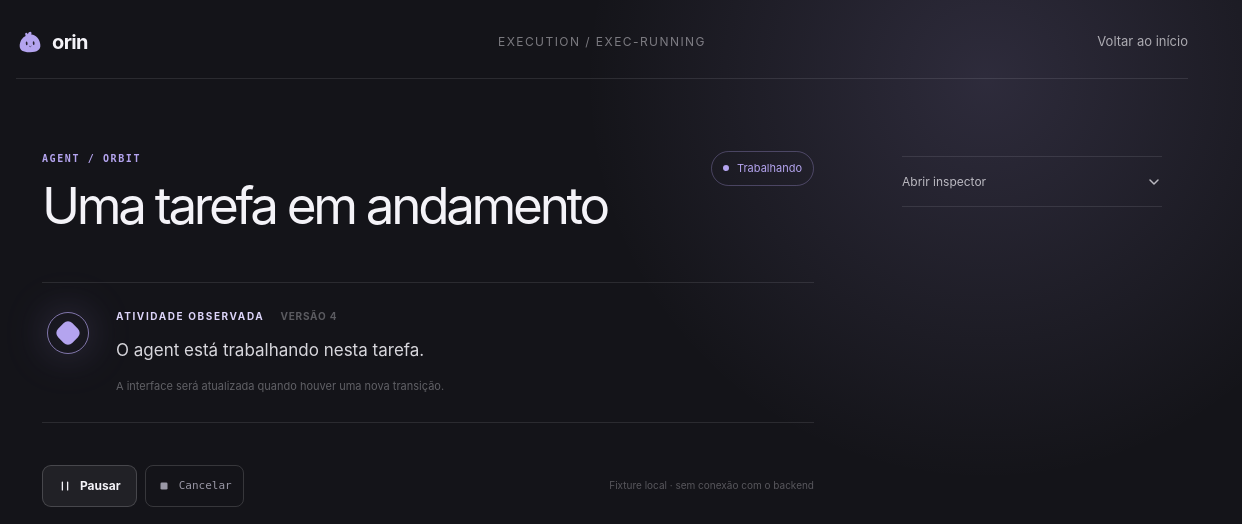
ExecutionPage › exposes inspector disclosure semantics
Expected: the text "Detalhes técnicos" is not shown
What coordinates should you click on to do the following:
click the button "Abrir inspector"
I would click on:
 (944, 181)
Its box is [902,157,1162,206].
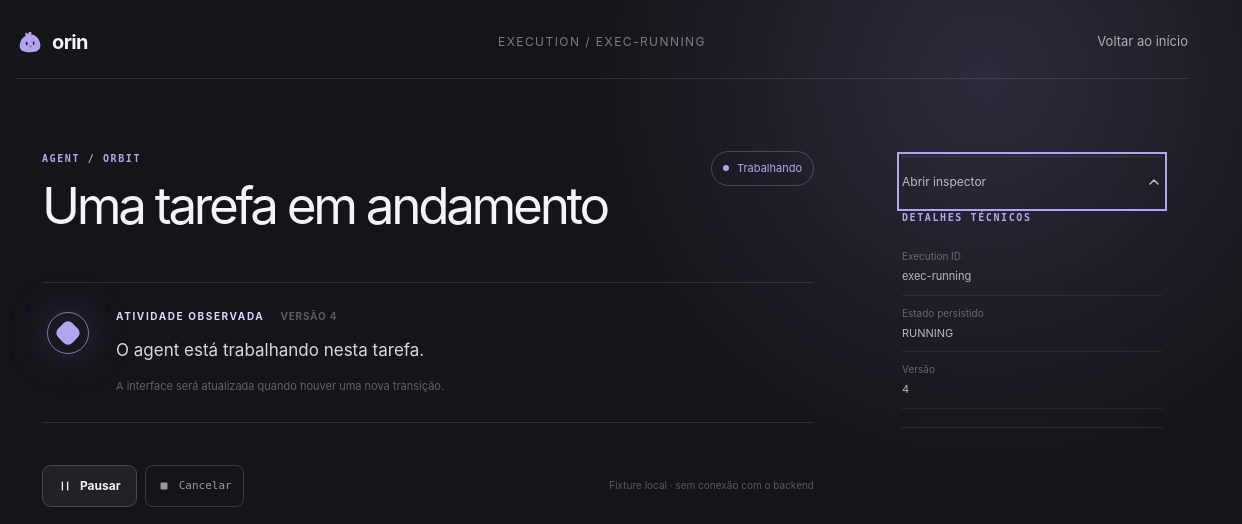
Expected: the button "Abrir inspector" is expanded, [902,157,1162,206]
Expected: the text "Detalhes técnicos" is shown, [902,212,1032,223]
